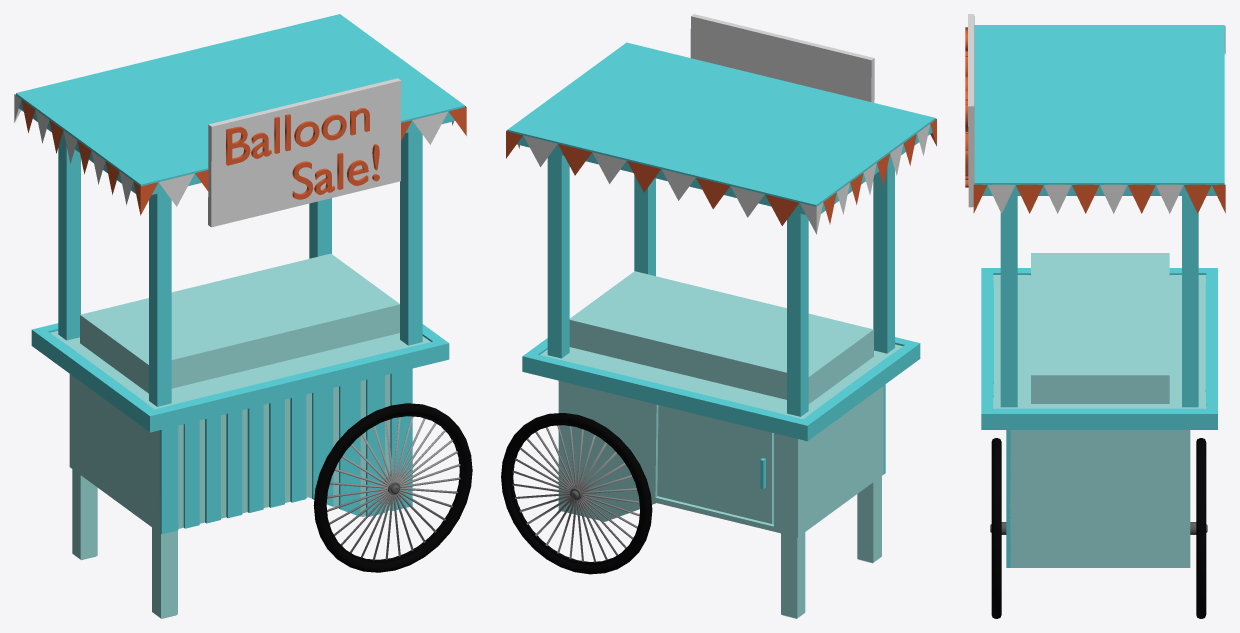
Rendered from Balloon_Shop.fbx.
The picture shows the model from 3 angles, left to right: view 1: azimuth 30°, elevation 25°; view 2: azimuth 150°, elevation 25°; view 3: azimuth 270°, elevation 25°; orthographic projection. The views are drawn at different scales.
Visible parts, largest first — view 1: Balloon_Shop; view 2: Balloon_Shop; view 3: Balloon_Shop.
Boxes of the visible parts, bbox=[...] form: Balloon_Shop: bbox=[14, 14, 472, 618]; Balloon_Shop: bbox=[501, 14, 936, 618]; Balloon_Shop: bbox=[965, 14, 1225, 618].
Size of the model in its own units: 155 by 216 by 102.
